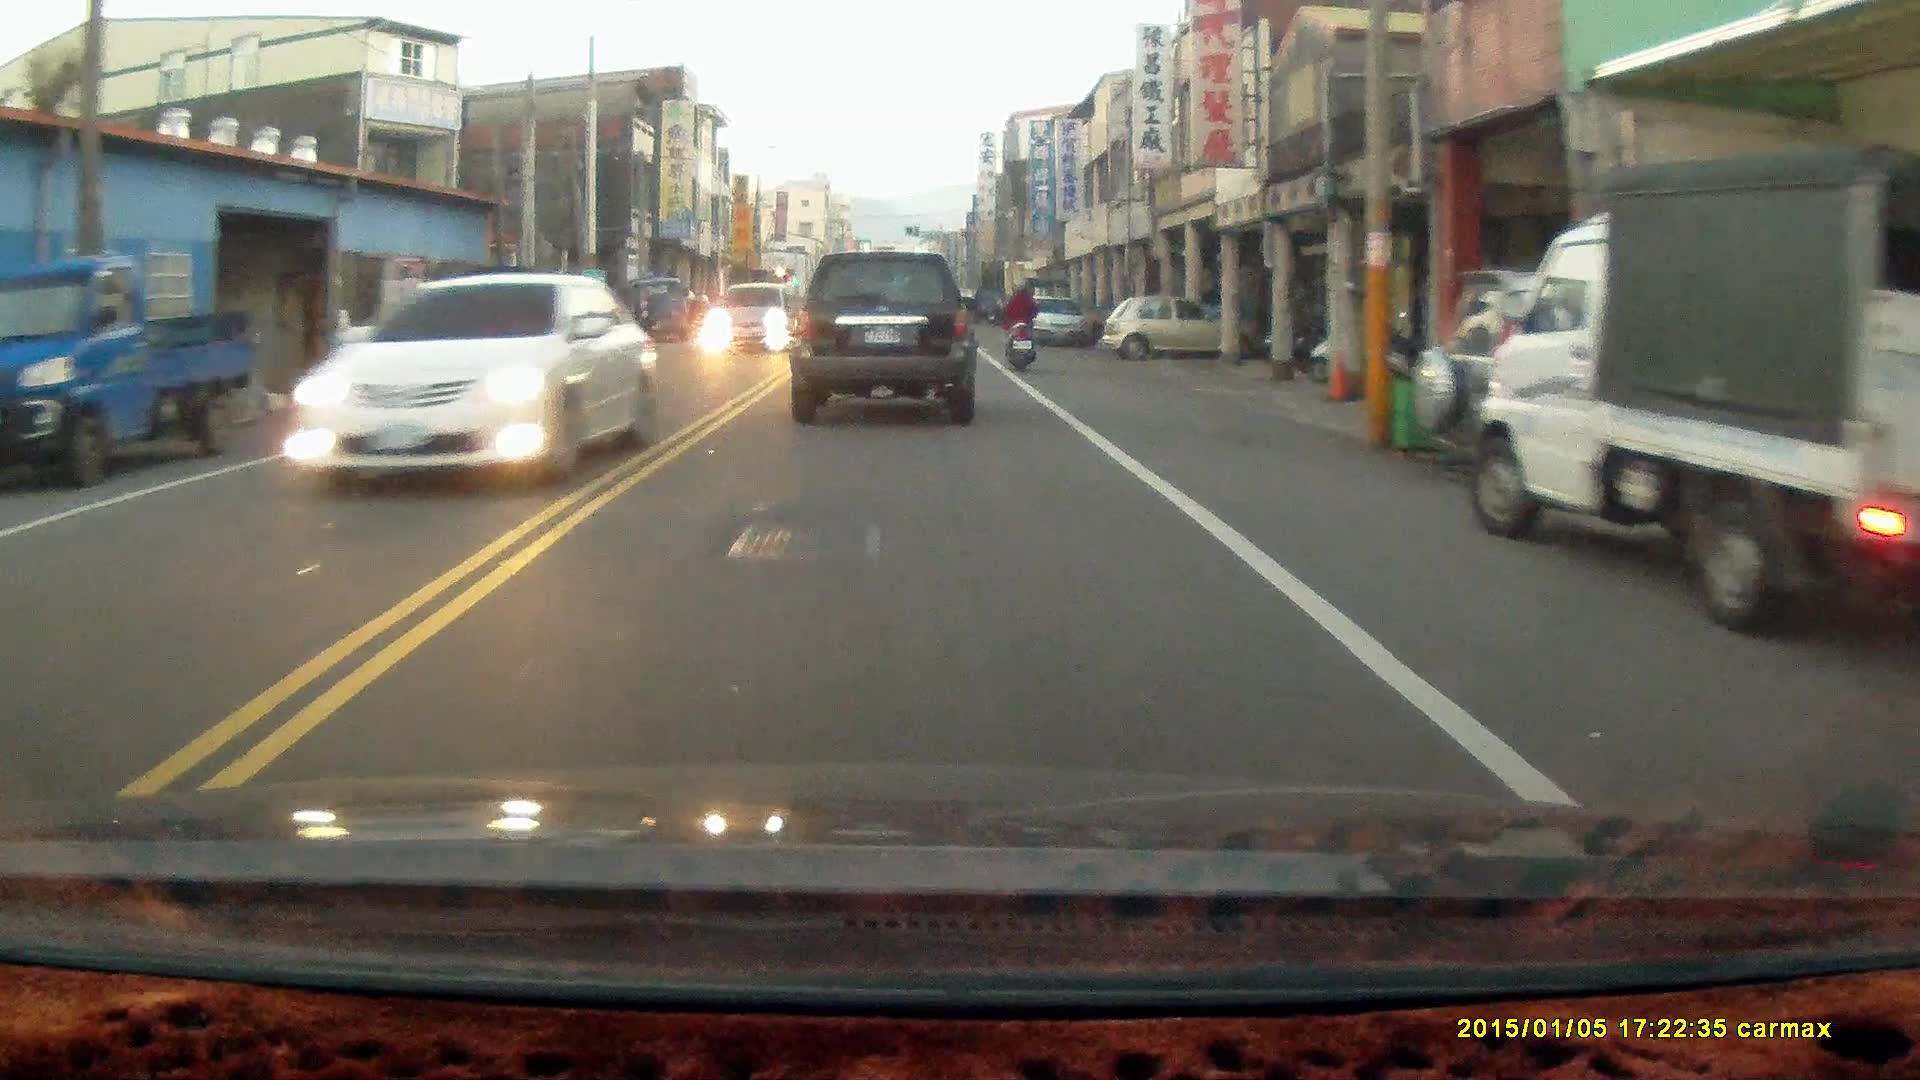pedestrian: (632, 285, 655, 345)
rider: (1002, 275, 1039, 370)
vehicle: (1476, 141, 1920, 642), (1424, 271, 1919, 483), (285, 269, 660, 492), (1, 266, 267, 488), (786, 248, 983, 427), (1101, 293, 1232, 360), (703, 281, 801, 357), (1023, 294, 1091, 347)
